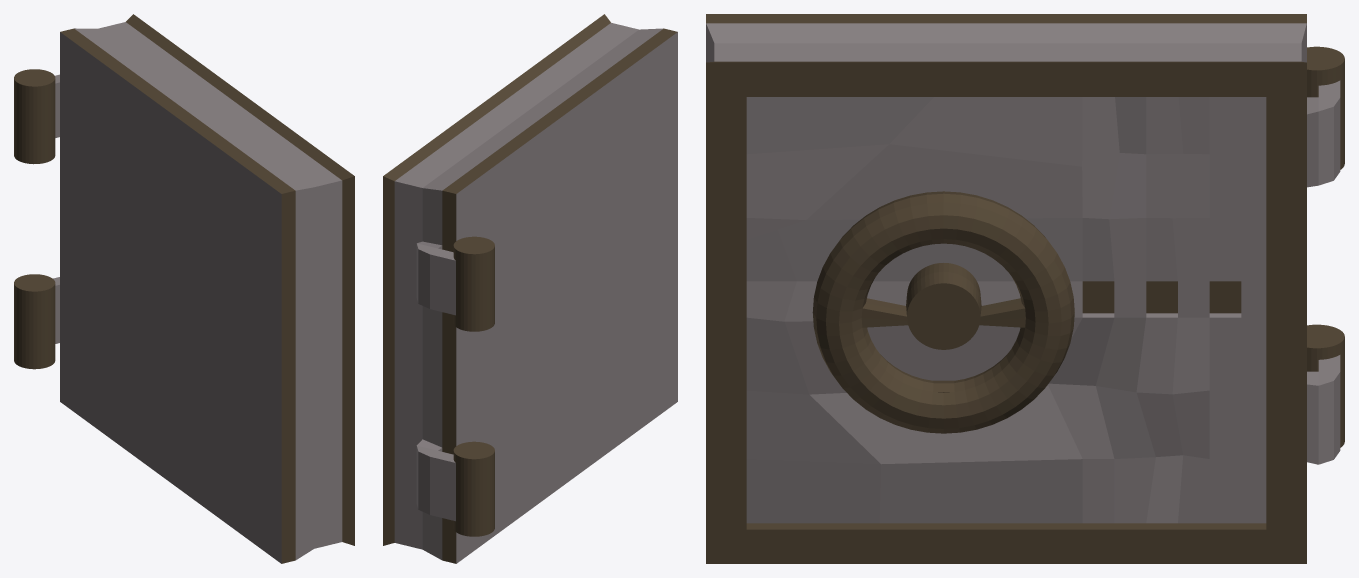
File: Safe_door_v02.fbx
The picture shows the model from 3 angles, left to right: view 1: azimuth 30°, elevation 25°; view 2: azimuth 150°, elevation 25°; view 3: azimuth 270°, elevation 25°; orthographic projection. The views are drawn at different scales.
Parts seen in each view (by area): view 1: Safe_Door; view 2: Safe_Door; view 3: Safe_Door.
Part boxes in pixels (bbox=[...]): Safe_Door: bbox=[14, 14, 354, 563]; Safe_Door: bbox=[383, 14, 677, 563]; Safe_Door: bbox=[706, 14, 1344, 563].
Bounding box in the file's own units: 37.94 × 92.1 × 106.
